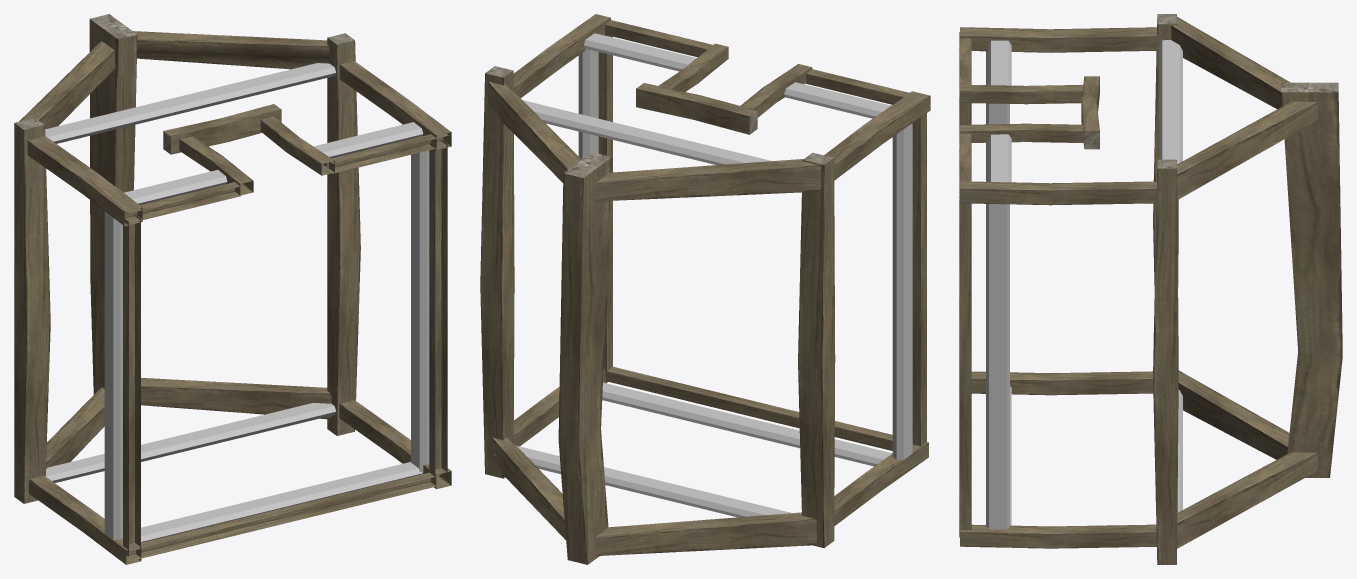
The model's file is Shack_Structure.fbx.
3 views of the same model, side by side, from view 1: azimuth 30°, elevation 25°; view 2: azimuth 150°, elevation 25°; view 3: azimuth 270°, elevation 25° (orthographic). The views are drawn at different scales.
Parts seen in each view (by area): view 1: Shack_Structure; view 2: Shack_Structure; view 3: Shack_Structure.
Part boxes in pixels (x1,y1,x2,y2): Shack_Structure: (14,14,451,564); Shack_Structure: (480,14,930,564); Shack_Structure: (959,14,1342,564).
Bounding box in the file's own units: 6.27 × 7 × 6.13.
